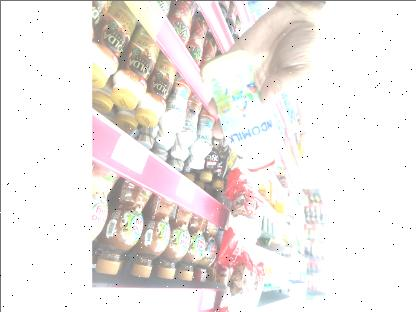Others: (201, 48, 283, 176)
